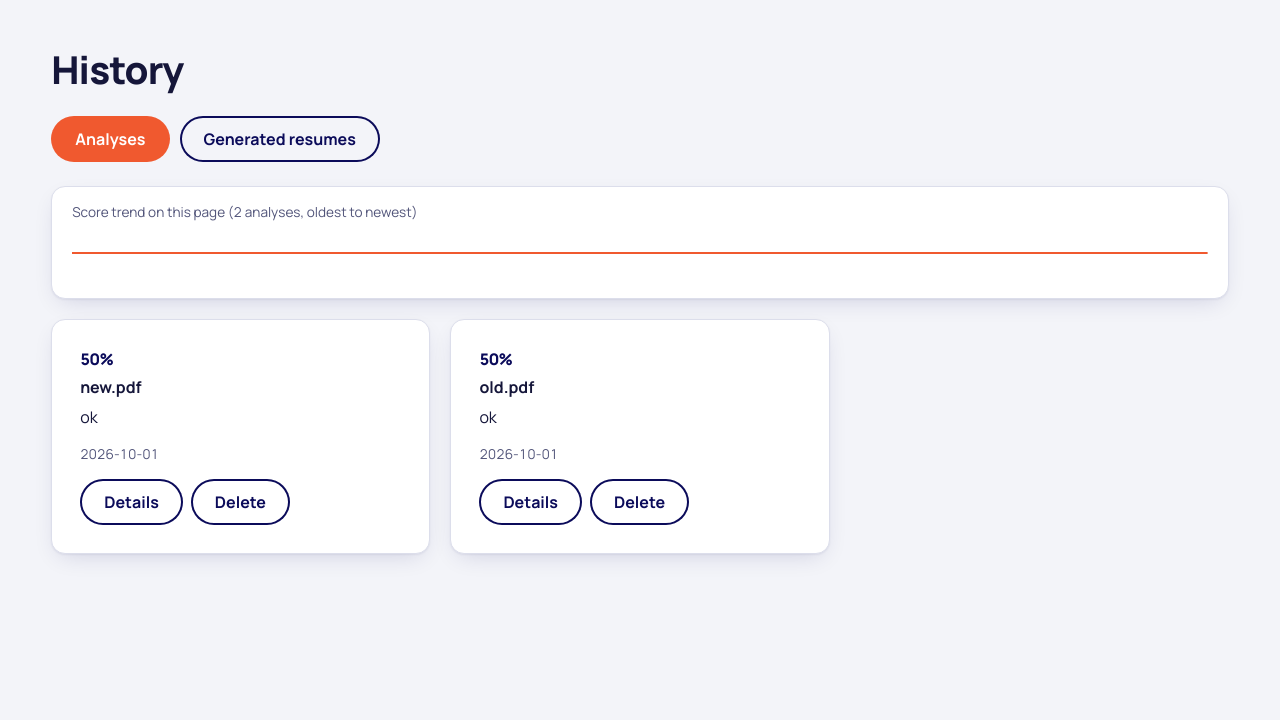
Improve flow › History offers Improve for analyses with stored text, and explains why older ones cannot
Click the button "Details" below "old.pdf". click: (531, 502)
box: 479,478 -> 582,524
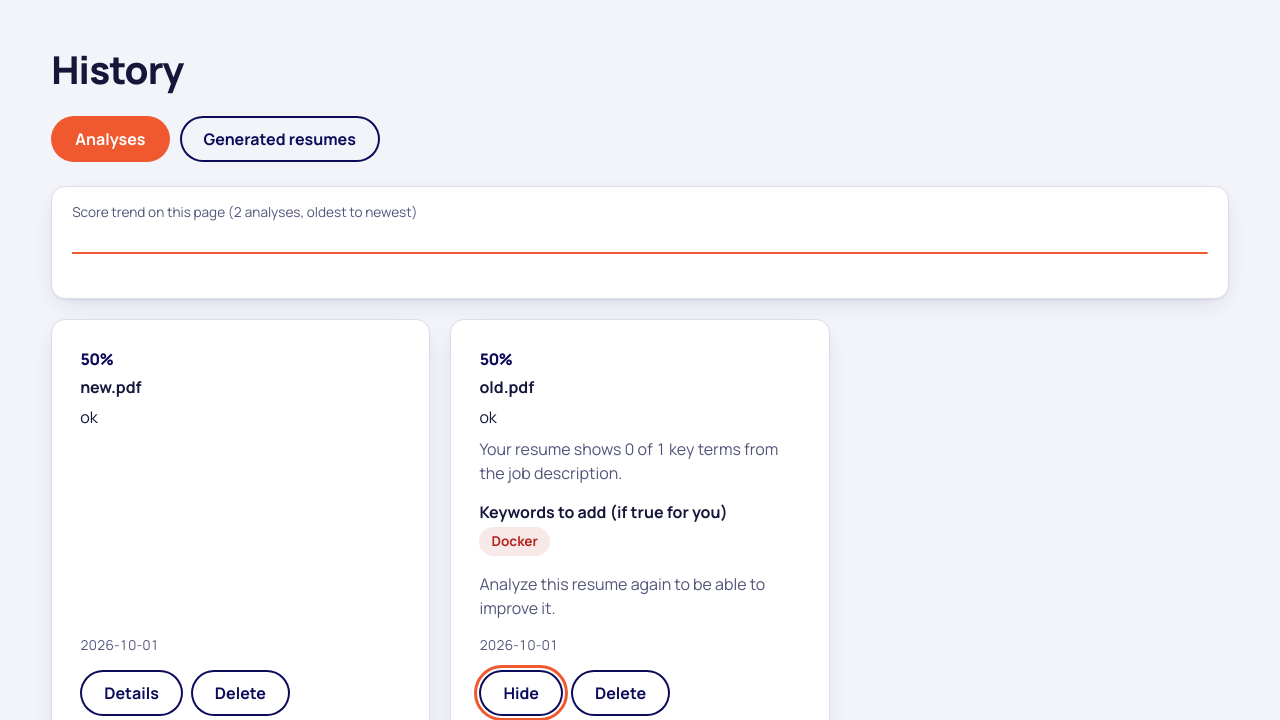
Expected: the text "Analyze this resume again to be able to improve it." is shown, 479,572 -> 801,620
Click the button "Details". click: (132, 693)
box: 80,670 -> 183,716
(page scrolled)
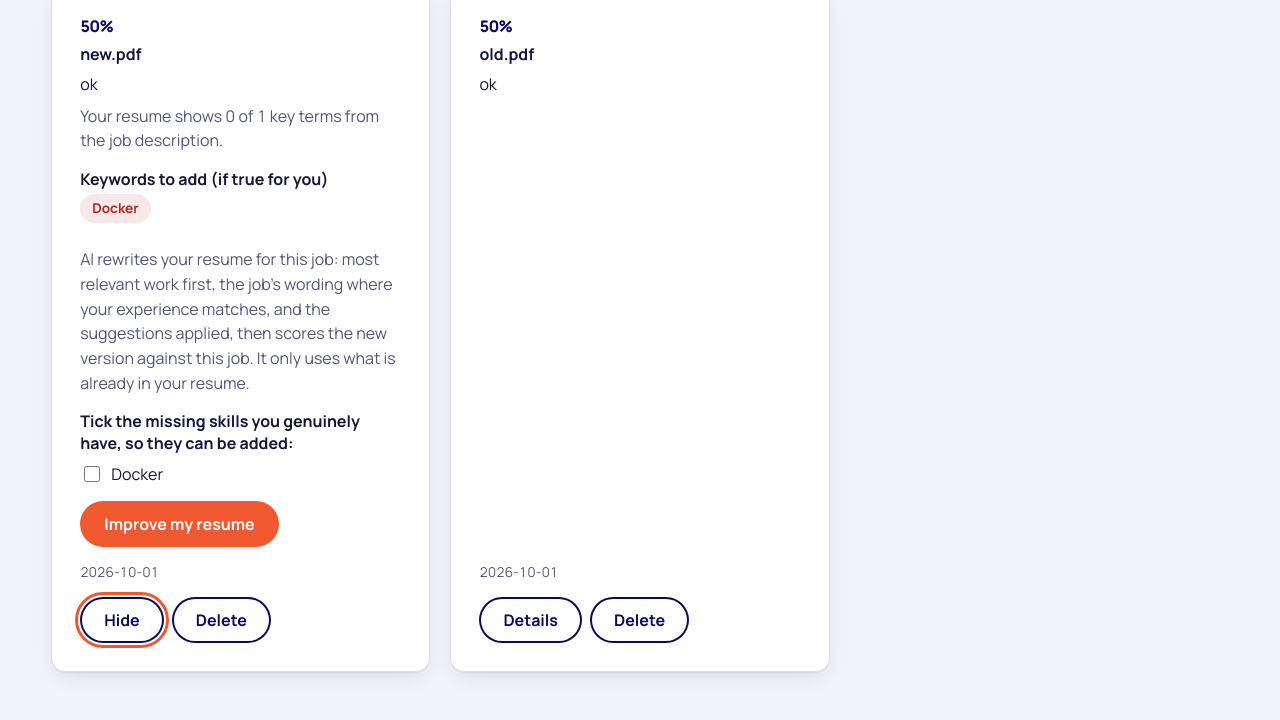
Click the checkbox labelled "Docker". click: (92, 474)
box: 84,466 -> 100,482
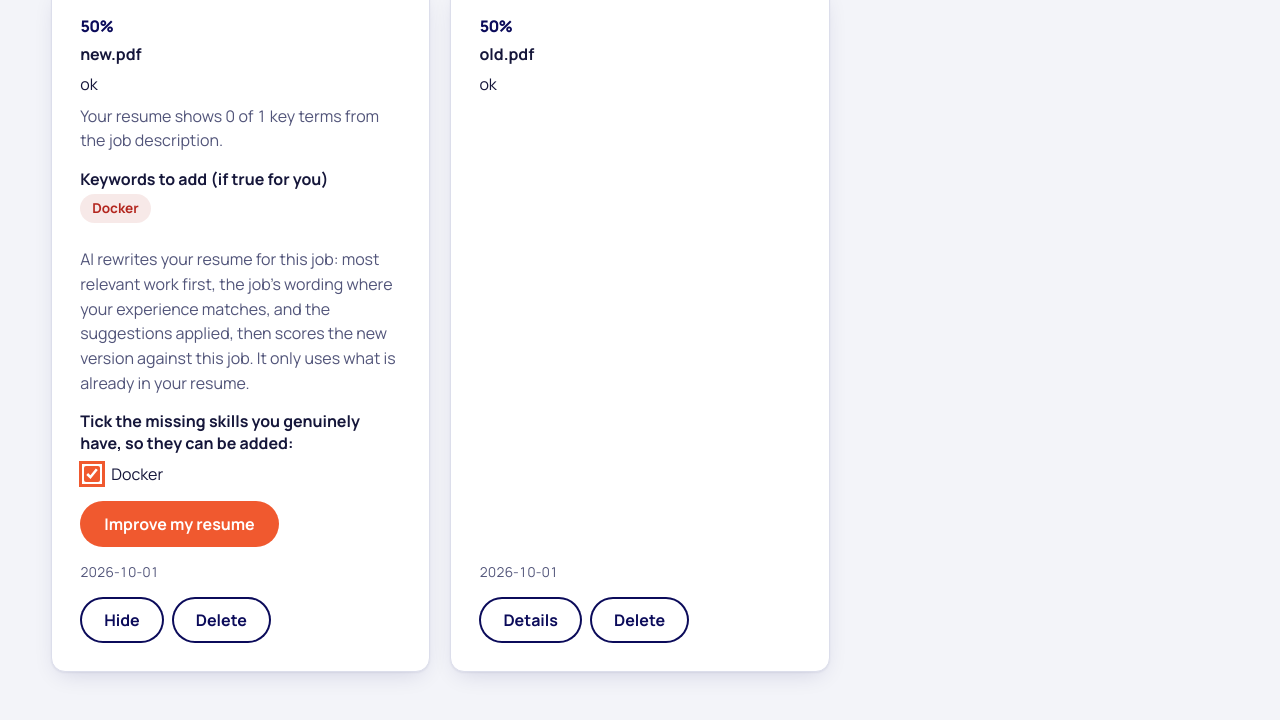
Click the button "Improve my resume". click: (179, 524)
box: 80,501 -> 279,547
(page scrolled)
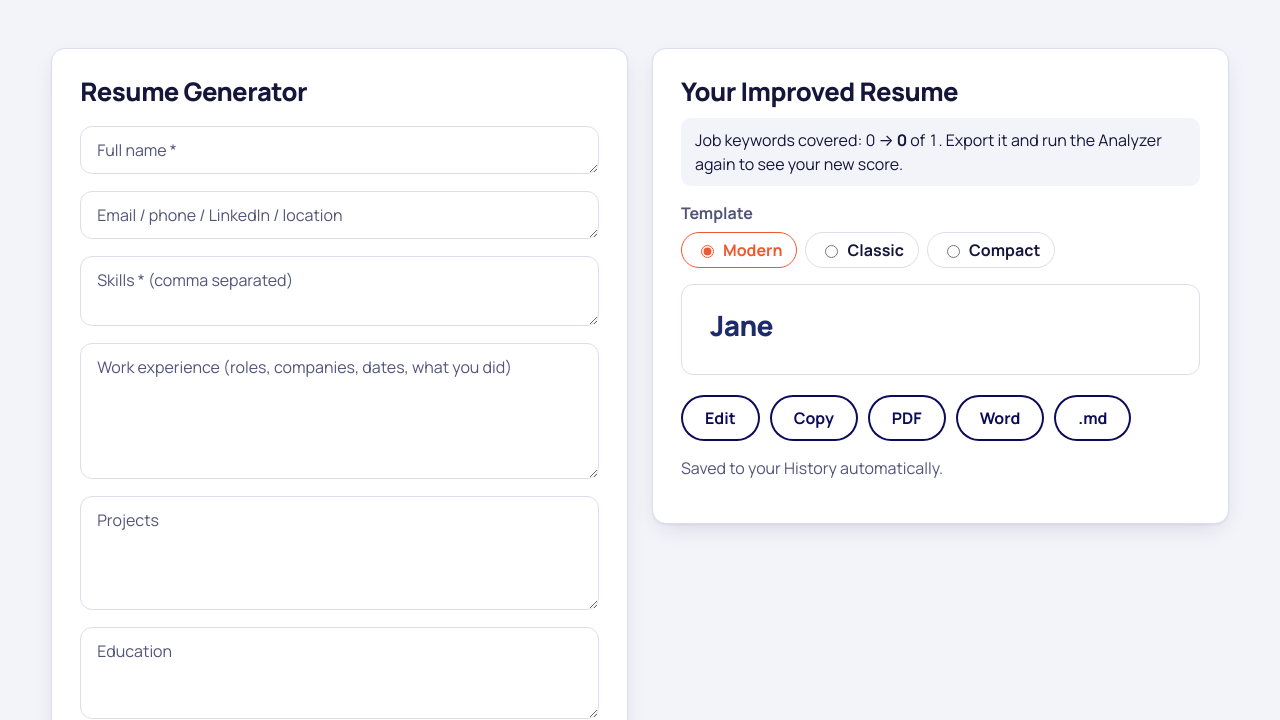
Expected: the heading "Your Improved Resume" is shown, 681,74 -> 958,109
